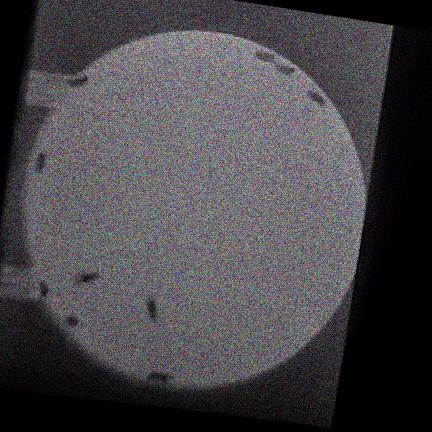fly: (73, 271, 99, 285), (147, 372, 174, 385), (146, 296, 158, 323), (308, 91, 327, 107), (275, 62, 295, 76), (68, 76, 89, 88), (255, 50, 276, 62), (35, 152, 46, 173), (38, 281, 49, 297), (65, 315, 78, 328)
